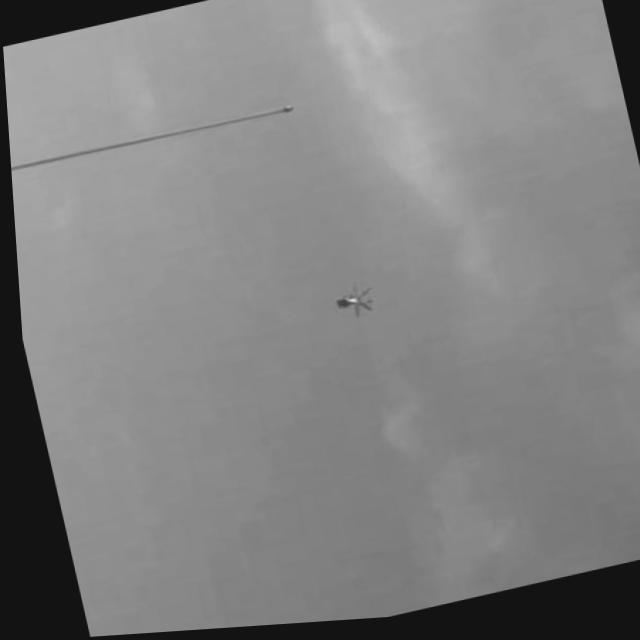helikopter: (333, 289, 373, 326)
